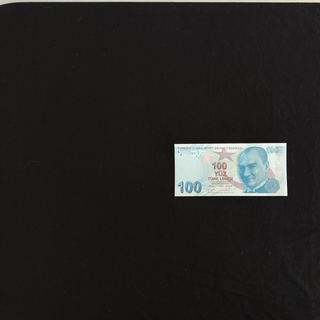100TLFront: (173, 142, 287, 196)
